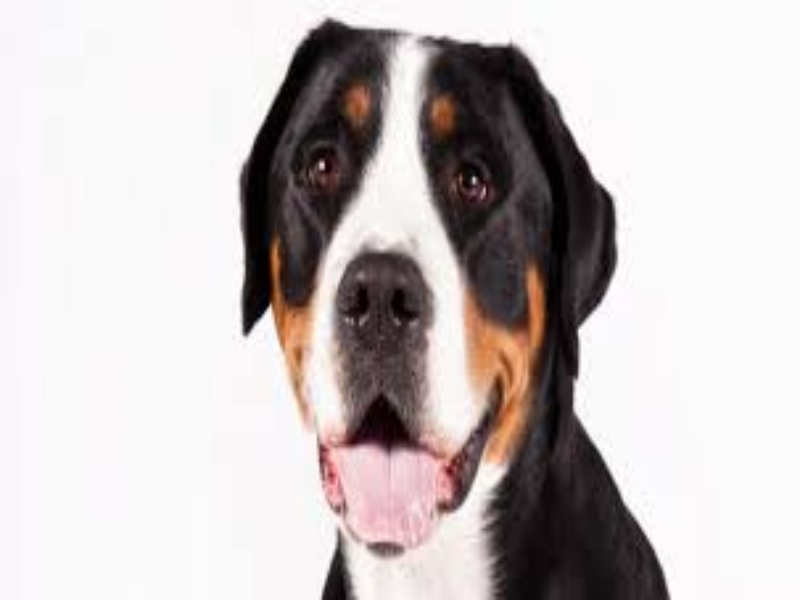dog: (220, 15, 677, 600)
